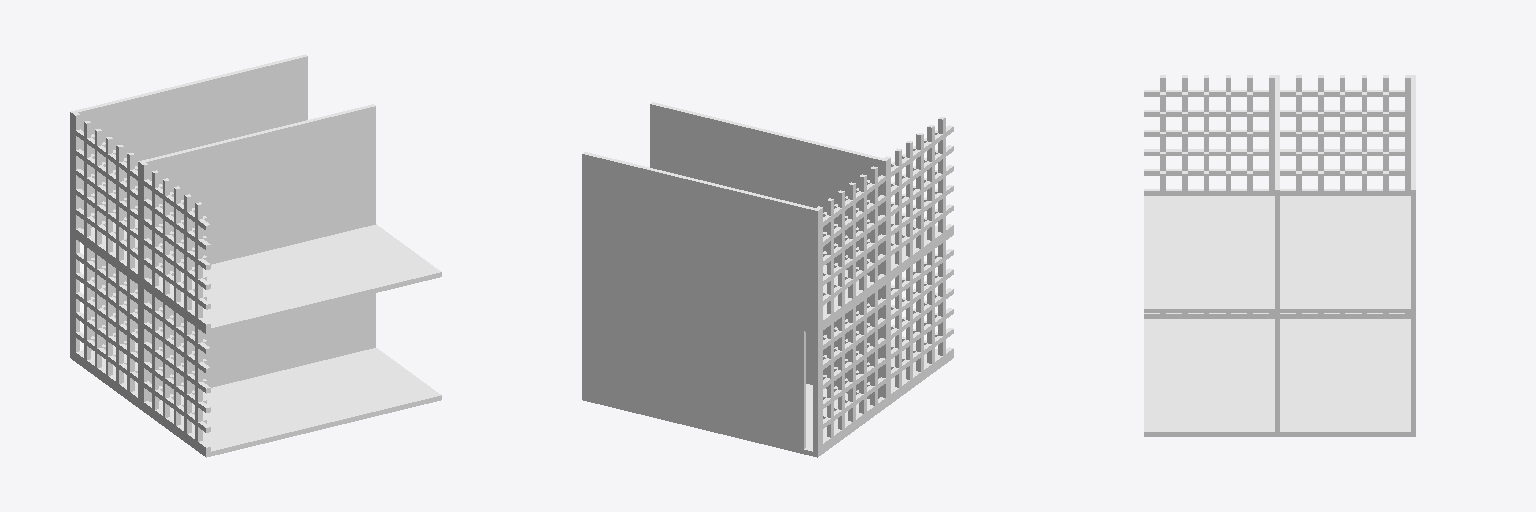
The model's file is cells.obj.
3 views of the same model, side by side, from view 1: azimuth 30°, elevation 25°; view 2: azimuth 150°, elevation 25°; view 3: azimuth 270°, elevation 25° (orthographic).
Bounding box in the file's own units: 50 × 50 × 50.